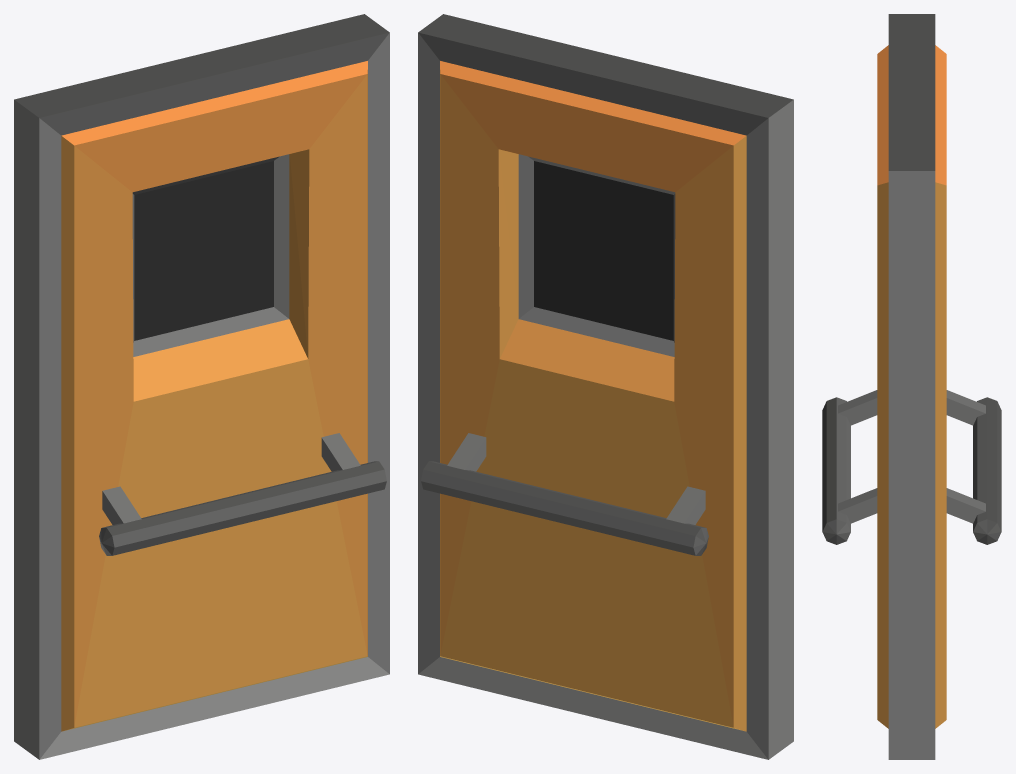
The model's file is kkr_door_A.obj.
The picture shows the model from 3 angles, left to right: view 1: azimuth 30°, elevation 25°; view 2: azimuth 150°, elevation 25°; view 3: azimuth 270°, elevation 25°; orthographic projection. The views are drawn at different scales.
Bounding box in the file's own units: 1.6 × 2.8 × 0.7714.
